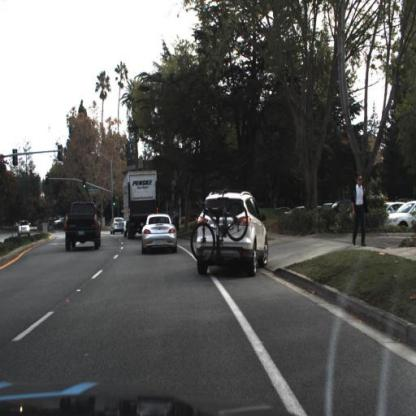car: (191, 189, 270, 275), (64, 200, 103, 251), (140, 210, 180, 258), (323, 196, 357, 232), (17, 218, 33, 238), (110, 217, 124, 236)
pedestrian: (347, 173, 368, 248), (352, 174, 367, 249)
trafficLight-Green: (112, 192, 119, 209), (83, 178, 91, 192), (82, 177, 88, 192), (112, 195, 118, 208)
trafficLight-RedLeft: (46, 173, 51, 188)
truck: (122, 168, 160, 238)
